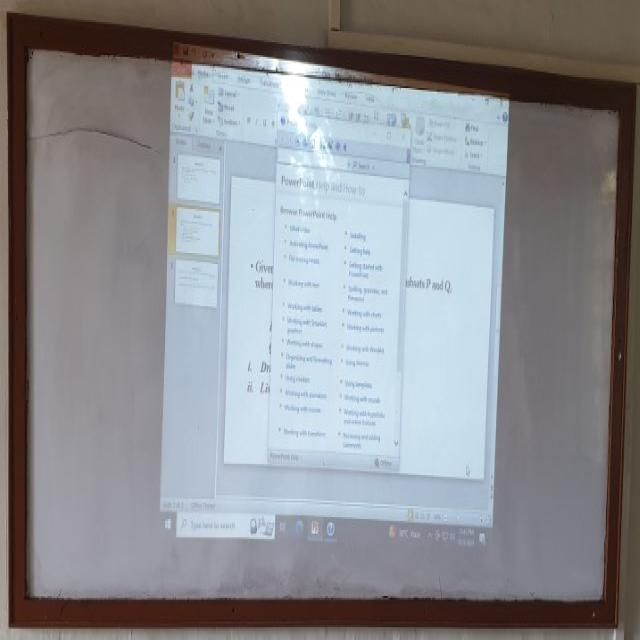Slide: (156, 40, 511, 553)
White-board: (16, 28, 630, 614)
